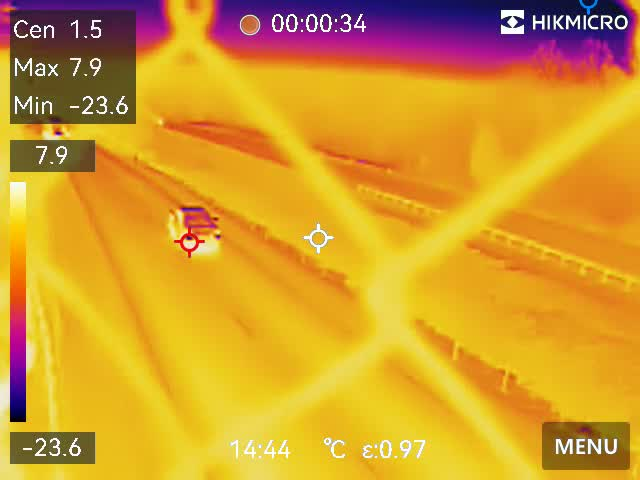lightTruck: (166, 201, 219, 254)
